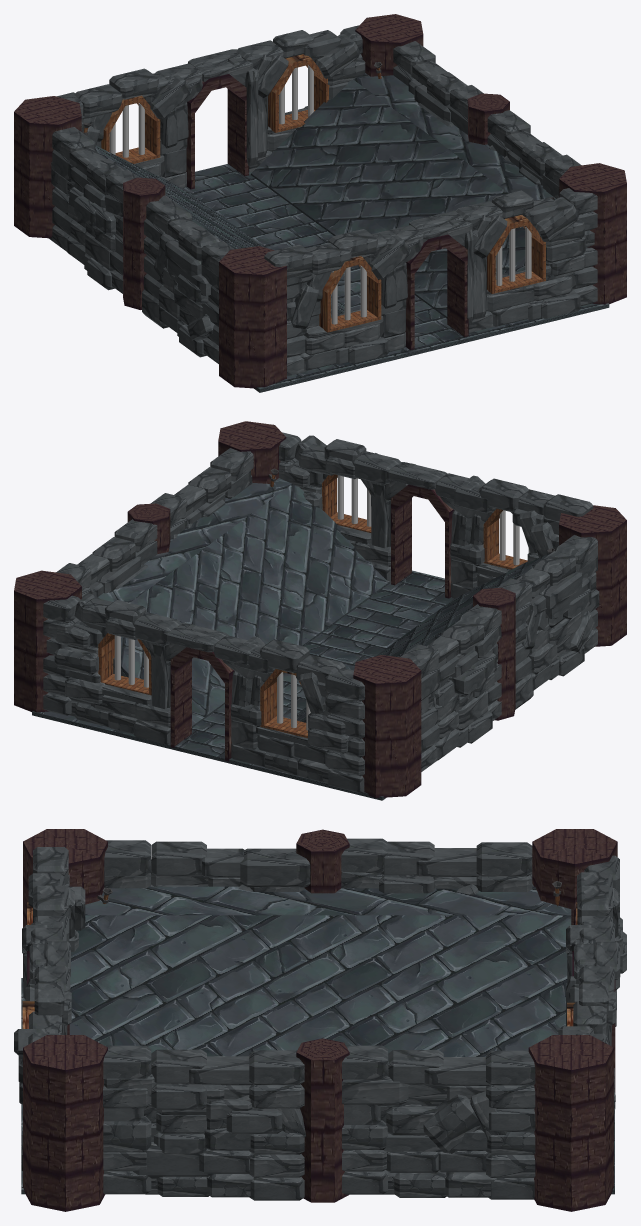
The model's file is room_boulderv2.fbx.
3 renders of one model, top to bottom at view 1: azimuth 30°, elevation 25°; view 2: azimuth 150°, elevation 25°; view 3: azimuth 270°, elevation 25°, orthographic. The views are drawn at different scales.
Visible parts, largest first — view 1: pasted__pasted__pCylinder8; view 2: pasted__pasted__pCylinder8; view 3: pasted__pasted__pCylinder8.
Part boxes in pixels (x1,y1,x2,y2): pasted__pasted__pCylinder8: [14, 14, 626, 392]; pasted__pasted__pCylinder8: [14, 421, 626, 800]; pasted__pasted__pCylinder8: [14, 829, 626, 1211].
Bounding box in the file's own units: 0.2097 × 0.0637 × 0.2246.
Materials: 11 (9 with a texture image).
